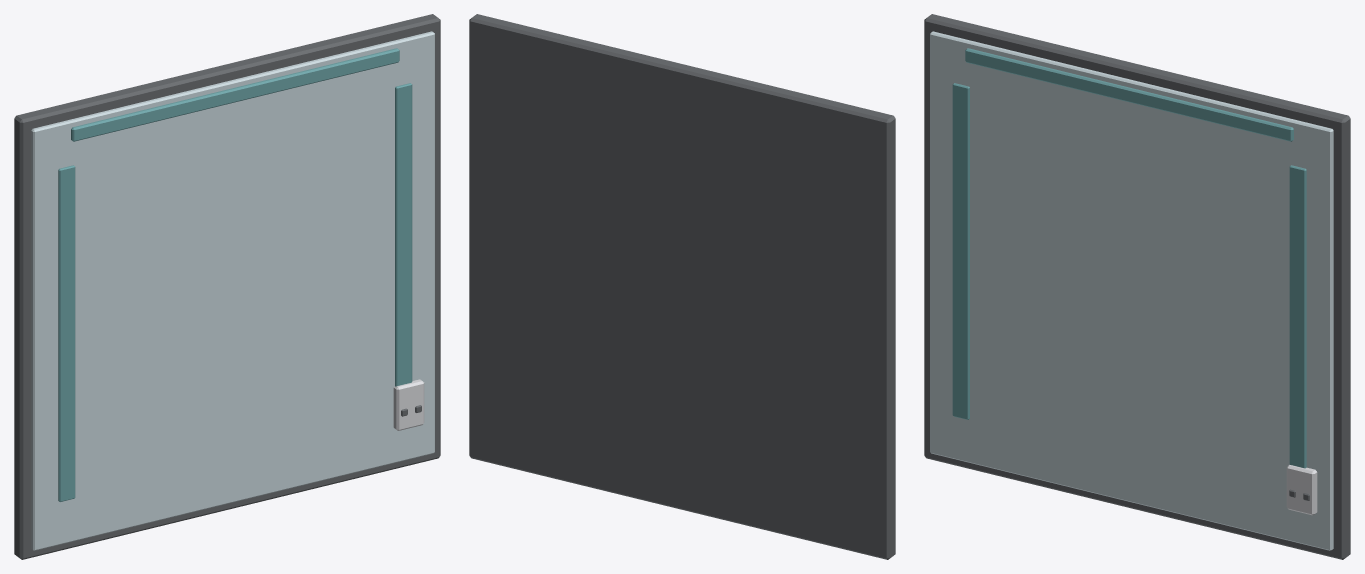
File: vanity-mirror-lit.glb
3 renders of one model, left to right at view 1: azimuth 30°, elevation 25°; view 2: azimuth 150°, elevation 25°; view 3: azimuth 330°, elevation 25°, orthographic.
Visible parts, largest first — view 1: vanity-mirror-lit; view 2: vanity-mirror-lit; view 3: vanity-mirror-lit.
Part boxes in pixels (x1=…): vanity-mirror-lit: x1=14, y1=14, x2=440, y2=559; vanity-mirror-lit: x1=469, y1=14, x2=895, y2=559; vanity-mirror-lit: x1=924, y1=14, x2=1350, y2=559.
Size of the model in its own units: 0.9 by 0.9 by 0.058.
